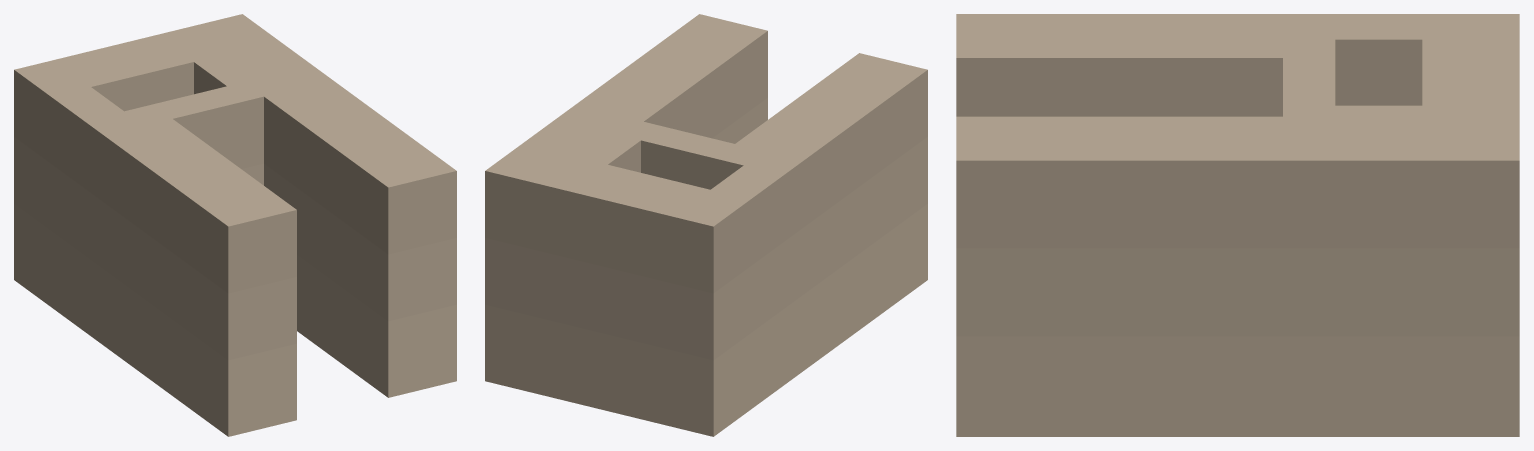
Rendered from massing.glb.
The picture shows the model from 3 angles, left to right: view 1: azimuth 30°, elevation 25°; view 2: azimuth 150°, elevation 25°; view 3: azimuth 270°, elevation 25°; orthographic projection. The views are drawn at different scales.
Parts seen in each view (by area): view 1: main/floor3/0/0, main/floor1/0/0, main/floor2/0/0; view 2: main/floor3/0/0, main/floor1/0/0, main/floor2/0/0; view 3: main/floor3/0/0, main/floor1/0/0, main/floor2/0/0.
Part boxes in pixels (<box>): main/floor3/0/0: <box>14,14,456,293</box>; main/floor1/0/0: <box>14,204,456,436</box>; main/floor2/0/0: <box>14,137,456,360</box>; main/floor3/0/0: <box>485,14,927,293</box>; main/floor1/0/0: <box>485,204,927,436</box>; main/floor2/0/0: <box>485,98,927,360</box>; main/floor3/0/0: <box>956,14,1519,248</box>; main/floor1/0/0: <box>956,336,1519,436</box>; main/floor2/0/0: <box>956,248,1519,336</box>.
Size of the model in its own units: 10 by 8.8 by 16.25.
